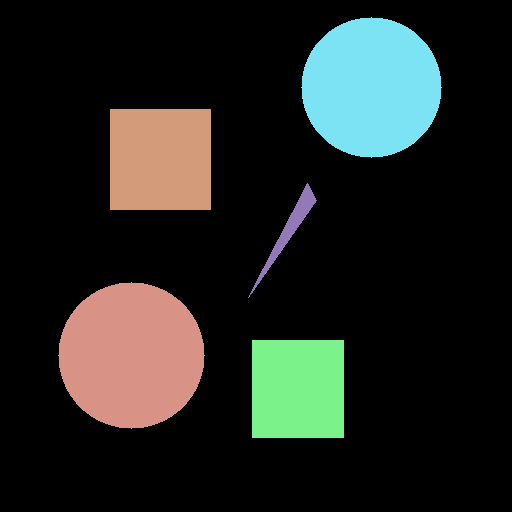circle: (58, 282, 204, 428), (301, 17, 441, 157)
square: (110, 109, 210, 209), (252, 340, 343, 437)
triangle: (248, 183, 315, 297)
